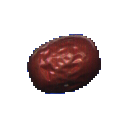gd: (19, 20, 125, 127)
